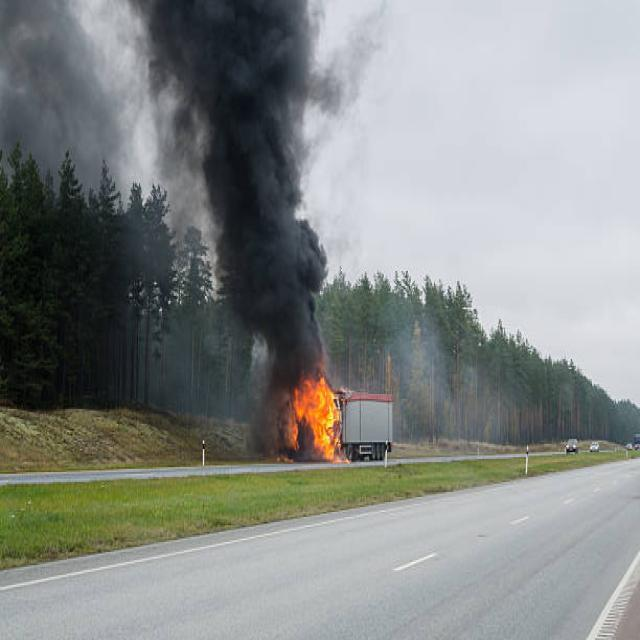Fire: (270, 366, 340, 466)
Smoke: (156, 0, 360, 364), (0, 0, 174, 206)
